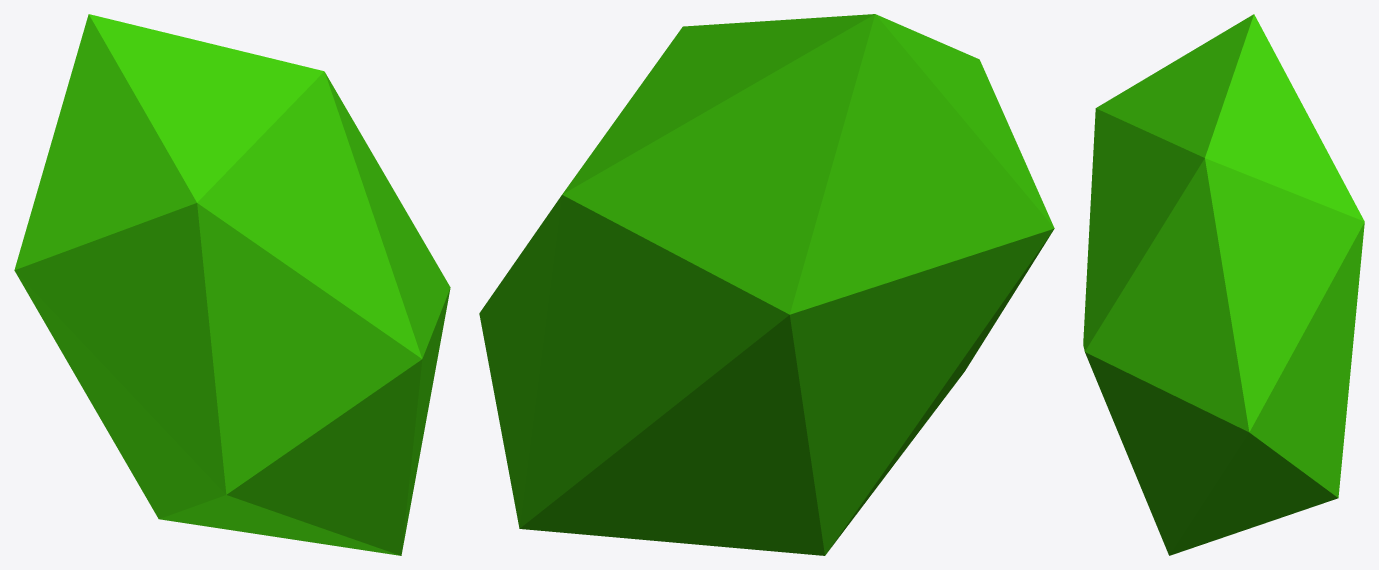
File: green6.obj
The picture shows the model from 3 angles, left to right: view 1: azimuth 30°, elevation 25°; view 2: azimuth 150°, elevation 25°; view 3: azimuth 270°, elevation 25°; orthographic projection. The views are drawn at different scales.
Parts seen in each view (by area): view 1: Icosphere.006; view 2: Icosphere.006; view 3: Icosphere.006.
Part boxes in pixels (x1,y1,x2,y2): Icosphere.006: (14,14,450,555); Icosphere.006: (479,14,1054,555); Icosphere.006: (1083,14,1364,555).
Size of the model in its own units: 2.21 by 2.5 by 1.44.
